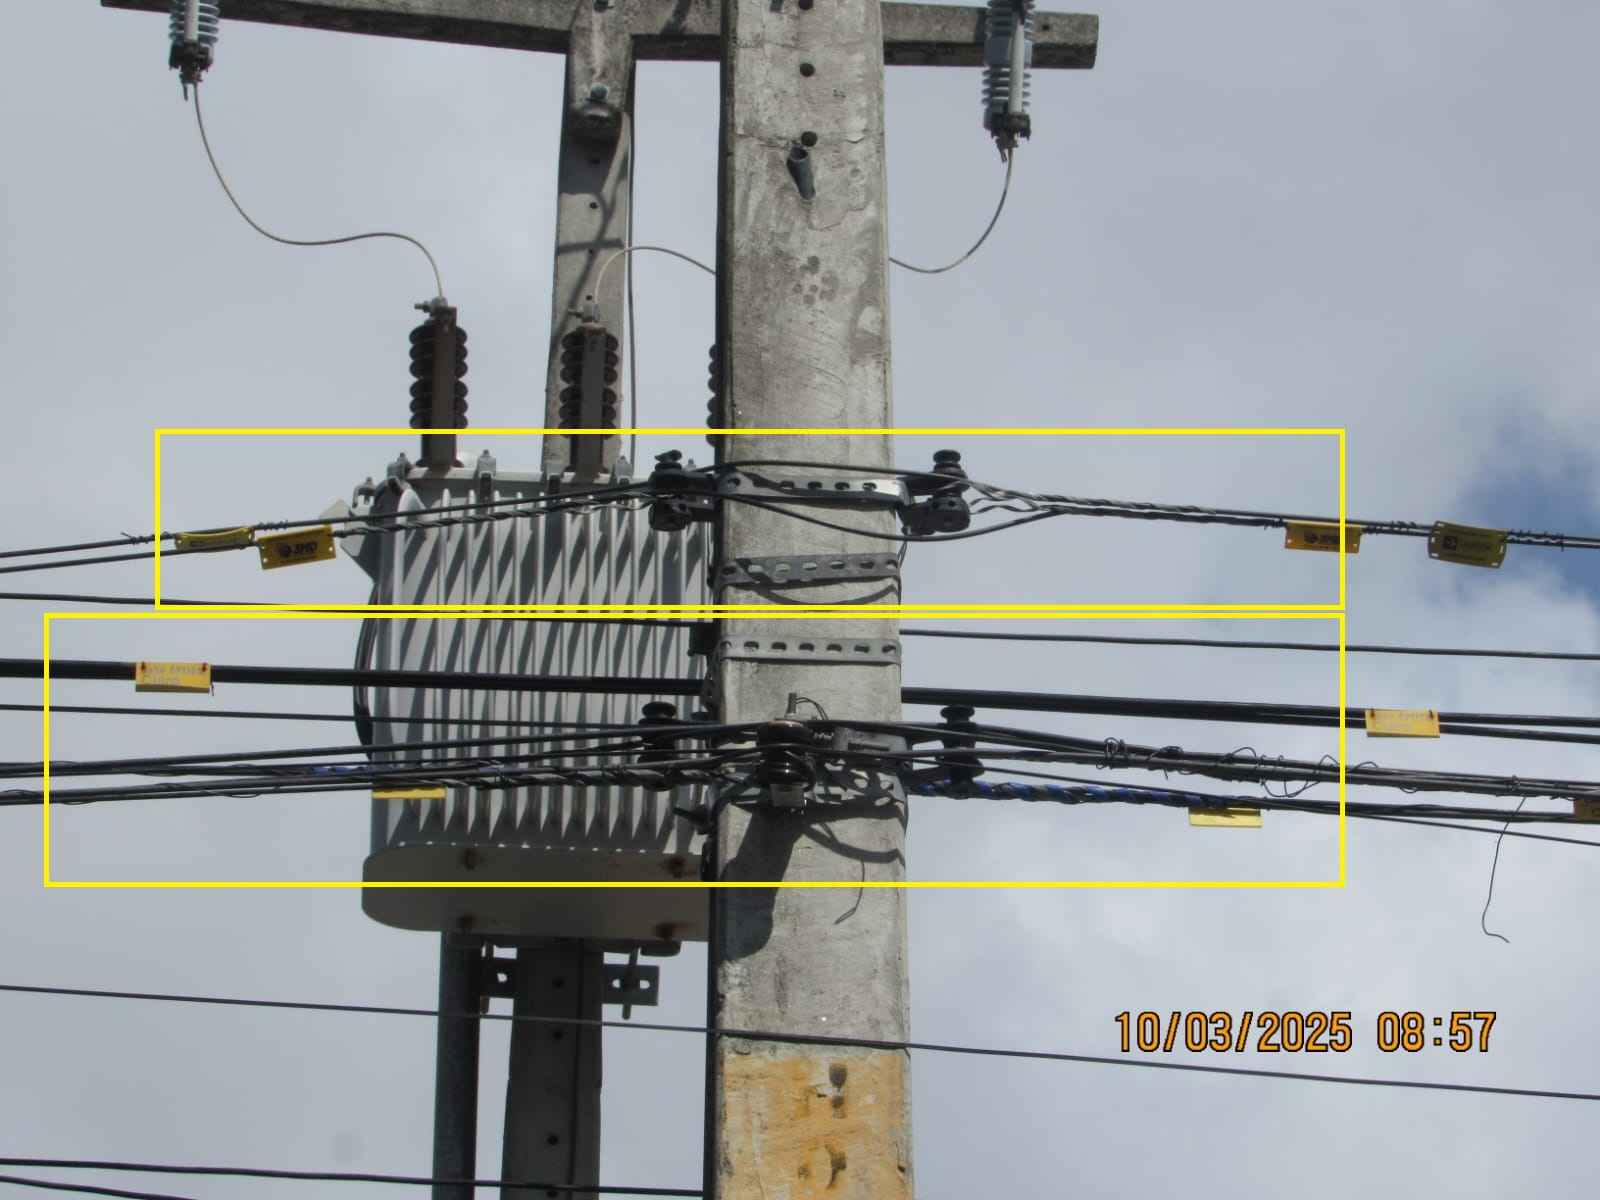fibra_optica: (1417, 516, 1517, 577), (1174, 776, 1271, 834), (247, 519, 343, 574), (1281, 513, 1367, 567), (1359, 697, 1445, 750), (135, 654, 219, 702)
